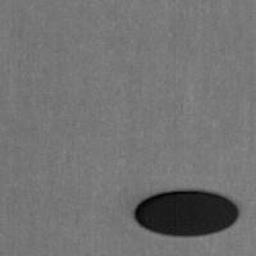Punching: (134, 191, 238, 237)
